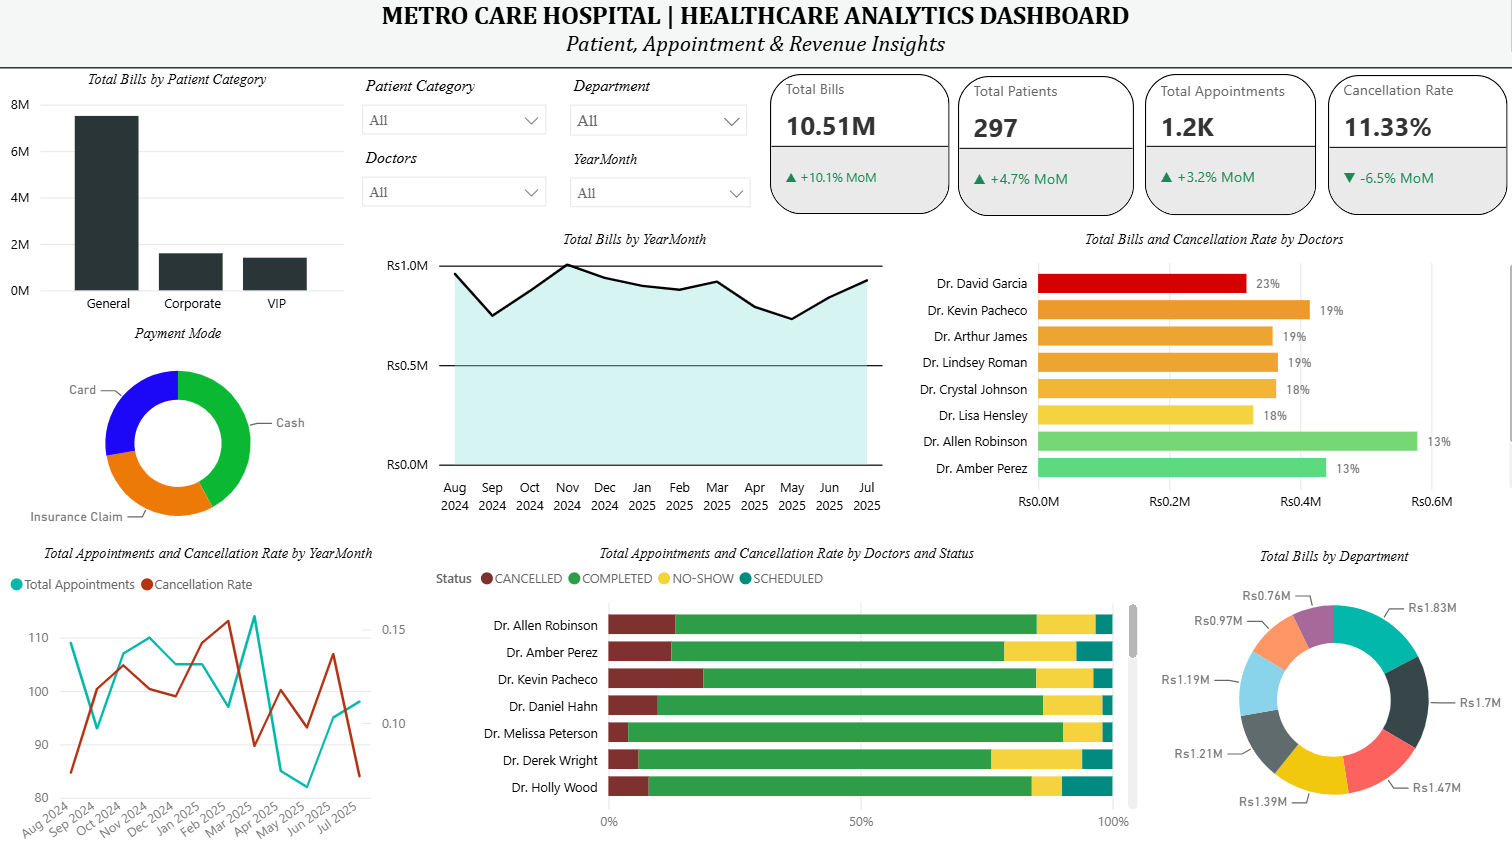

What the dashboard file says about the page in this screenshot:
{"tool":"powerbi","page":{"name":"MetroCare Hospital Dashboard","canvas":[1280,720],"ordinal":8},"visuals":[{"type":"textbox","box":[0,0,1280,63],"z":0},{"type":"cardVisual","fields":{"Data":["Measures Table.Total Patients"]},"box":[800.9,64.5,157.3,127.6],"z":0,"group":"g1"},{"type":"cardVisual","fields":{"Data":["Measures Table.Total Appointments"]},"box":[957.2,63,154,128.3],"z":1000,"group":"g1"},{"type":"donutChart","fields":{"Category":["public departments.Department"],"Y":["Measures Table.Total Bills"]},"box":[900.5,463.2,378.7,228.6],"z":1000},{"type":"cardVisual","fields":{"Data":["Measures Table.Cancellation Rate"]},"box":[1109.5,64.1,160.1,127.6],"z":2000,"group":"g1"},{"type":"lineChart","fields":{"Category":["DimDate.YearMonth"],"Y":["Measures Table.Total Bills"]},"box":[323.5,198.4,425.2,244.1],"z":2000},{"type":"cardVisual","fields":{"Data":["Measures Table.Total Bills"]},"box":[643.5,62.9,160.4,127.8],"z":3000,"group":"g1"},{"type":"hundredPercentStackedBarChart","fields":{"Y":["Measures Table.Total Appointments"],"Series":["public appointments.Status"],"Category":["public doctors.Doctors"]},"box":[364.9,461.5,535.6,258.8],"z":3000},{"type":"columnChart","fields":{"Category":["public patients.Patient Category"],"Y":["Measures Table.Total Bills"]},"box":[9.5,65.6,288.9,212.2],"z":4000},{"type":"donutChart","title":"Payment Mode","fields":{"Y":["Measures Table.Self-Pay Insurance"],"Category":["public appointments.payment_mode"]},"box":[9.7,277.7,288.9,183.7],"z":4000,"group":"g1"},{"type":"group","id":"g1","title":"Group 1","box":[9.7,62.9,1259.9,398.5],"z":5000},{"type":"slicer","fields":{"Values":["public departments.Department"]},"box":[471.9,65.2,167.9,60.1],"z":6000},{"type":"slicer","fields":{"Values":["DimDate.YearMonth"]},"box":[471.9,127,171.2,65.2],"z":7000},{"type":"slicer","fields":{"Values":["public patients.Patient Category"]},"box":[298.2,65.2,173.7,66.8],"z":8000},{"type":"lineChart","fields":{"Category":["DimDate.YearMonth"],"Y":["Measures Table.Total Appointments"],"Y2":["Measures Table.Cancellation Rate"]},"box":[9.5,461.5,340.7,258.8],"z":9000},{"type":"clusteredBarChart","fields":{"Category":["public doctors.Doctors"],"Y":["Measures Table.Total Bills"]},"box":[760.9,198.8,518.7,243.9],"z":10000},{"type":"slicer","fields":{"Values":["public doctors.Doctors"]},"box":[298.2,125.3,173.7,66.8],"z":11000}]}

Visuals, with their boxes in screenshot pixels (x1, y1, x2, y2), scaled from the page's 1280x720 canvas onto the 1512x846 screenshot:
textbox: (0,0,1511,74)
cardVisual - Measures Table.Total Patients: (946,76,1132,226)
cardVisual - Measures Table.Total Appointments: (1131,74,1313,225)
donutChart - public departments.Department x Measures Table.Total Bills: (1064,544,1511,813)
cardVisual - Measures Table.Cancellation Rate: (1311,75,1500,225)
lineChart - DimDate.YearMonth x Measures Table.Total Bills: (382,233,884,520)
cardVisual - Measures Table.Total Bills: (760,74,950,224)
hundredPercentStackedBarChart - Measures Table.Total Appointments x public appointments.Status: (431,542,1064,845)
columnChart - public patients.Patient Category x Measures Table.Total Bills: (11,77,352,326)
"Payment Mode" donutChart: (11,326,353,542)
"Group 1" group: (11,74,1500,542)
slicer - public departments.Department: (557,77,756,147)
slicer - DimDate.YearMonth: (557,149,760,226)
slicer - public patients.Patient Category: (352,77,557,155)
lineChart - DimDate.YearMonth x Measures Table.Total Appointments: (11,542,414,845)
clusteredBarChart - public doctors.Doctors x Measures Table.Total Bills: (899,234,1511,520)
slicer - public doctors.Doctors: (352,147,557,226)
